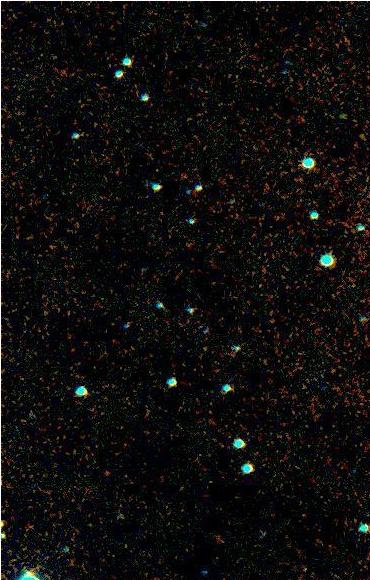star: (15, 560, 45, 580)
